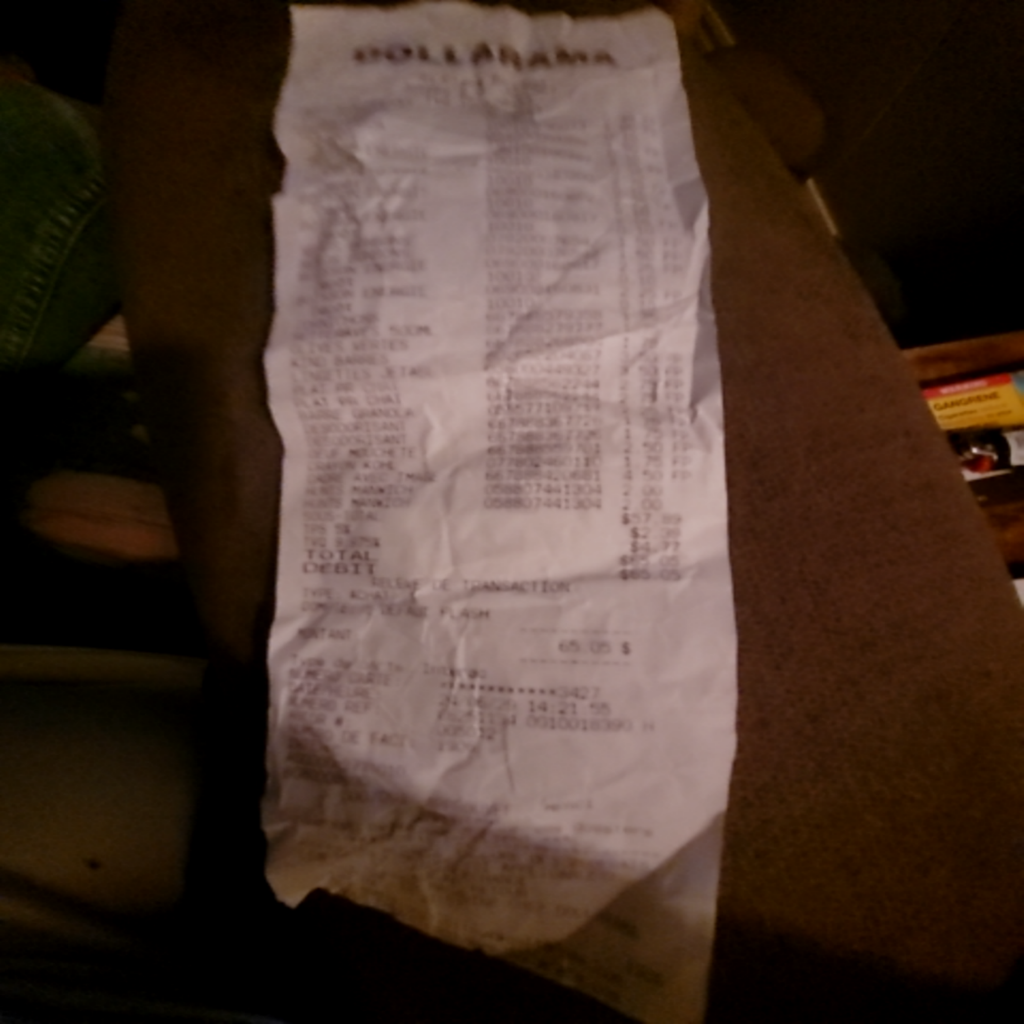recipt: (258, 4, 732, 1016)
